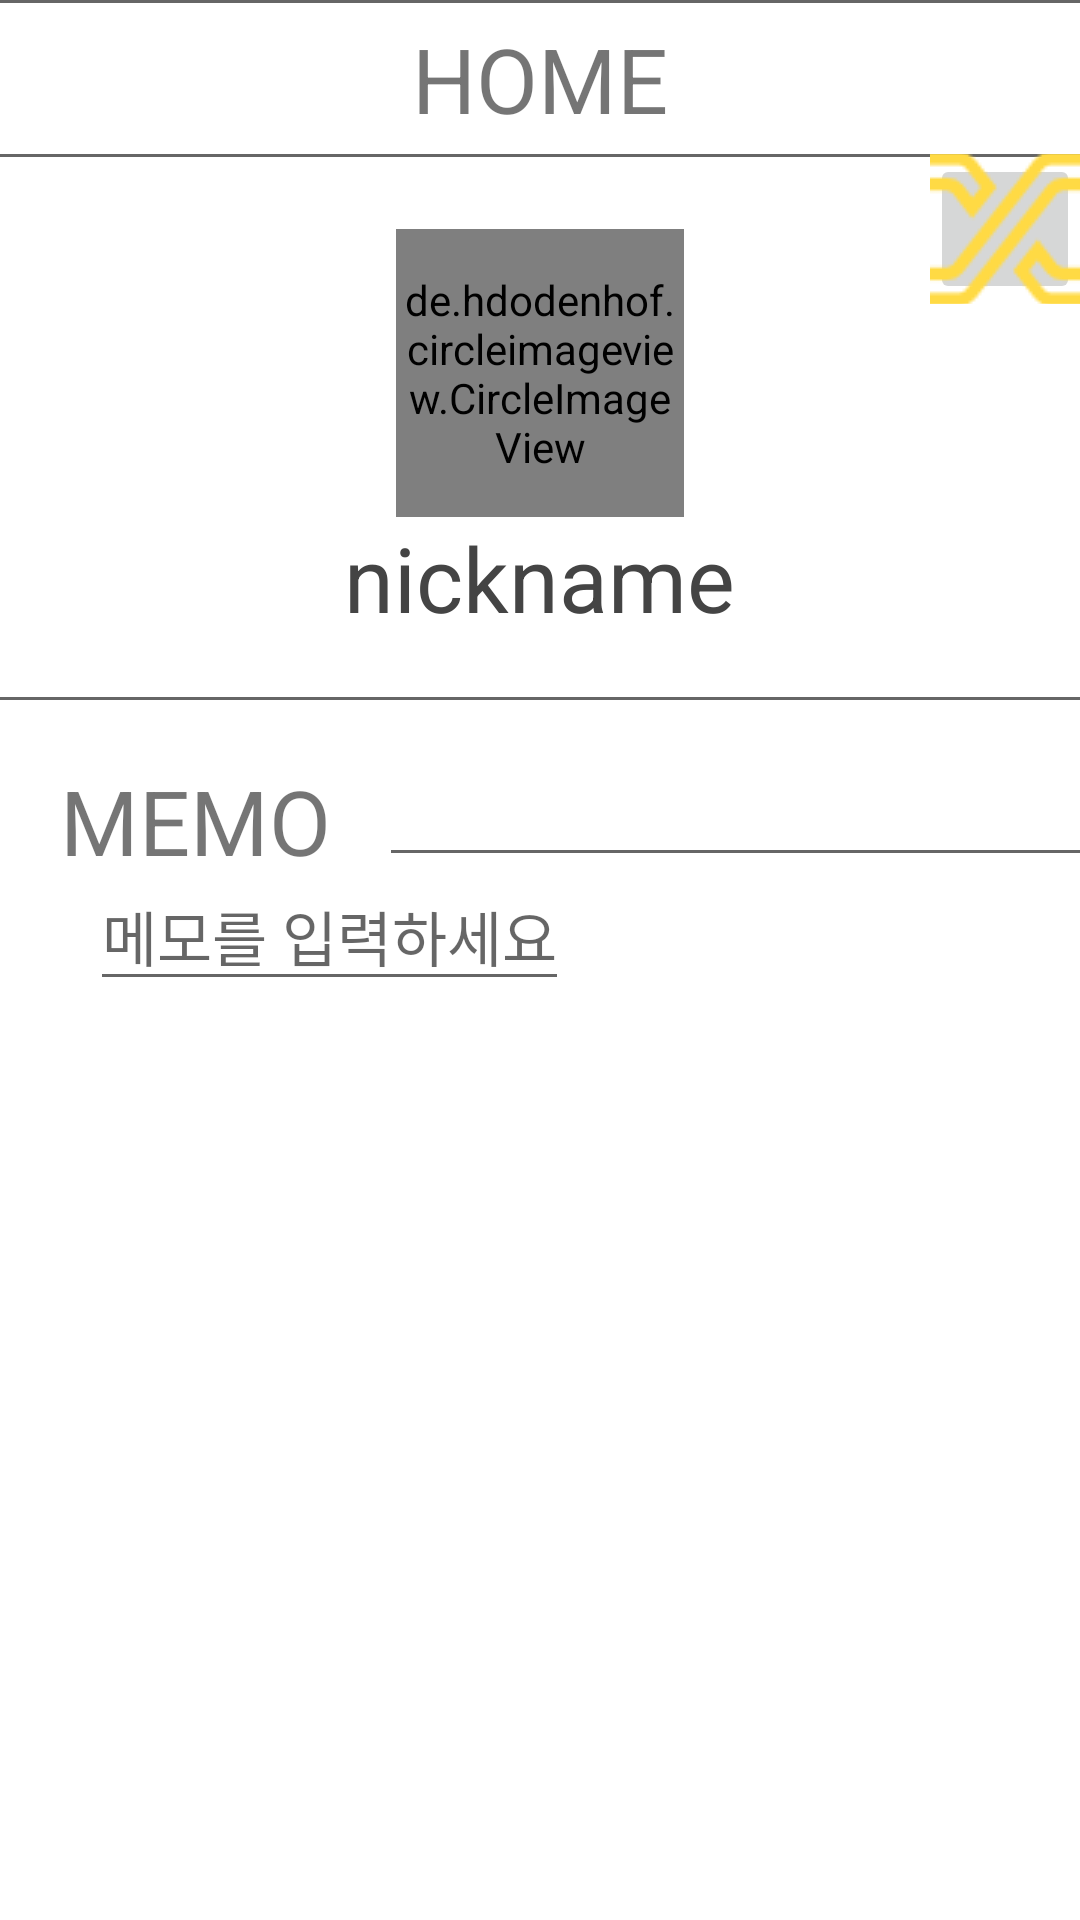

Named icons in this screenshot (1080*1920) and their centers, point (x, y):
shuffle: point (1005, 229)
